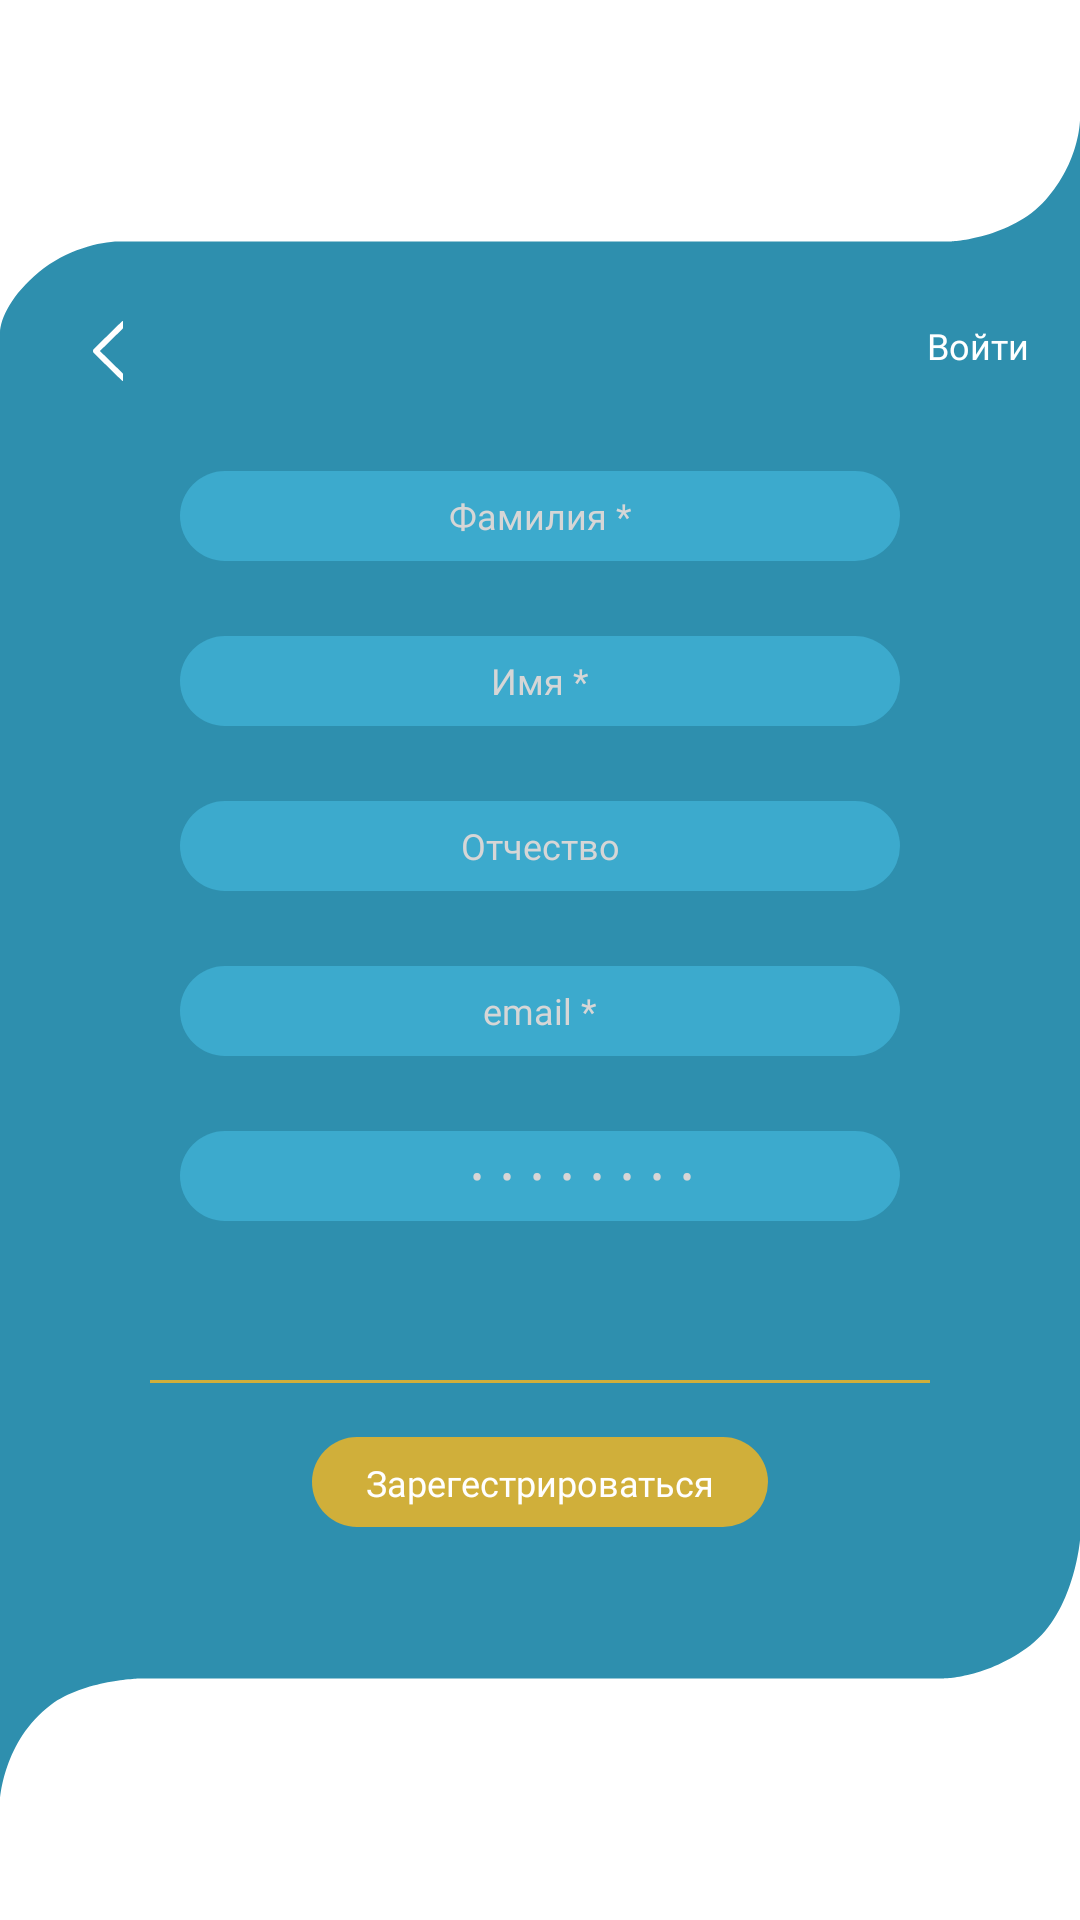

Named icons in this screenshot (1080 x 1920) and their centers, point (x, y):
arrow back: point (108, 351)
